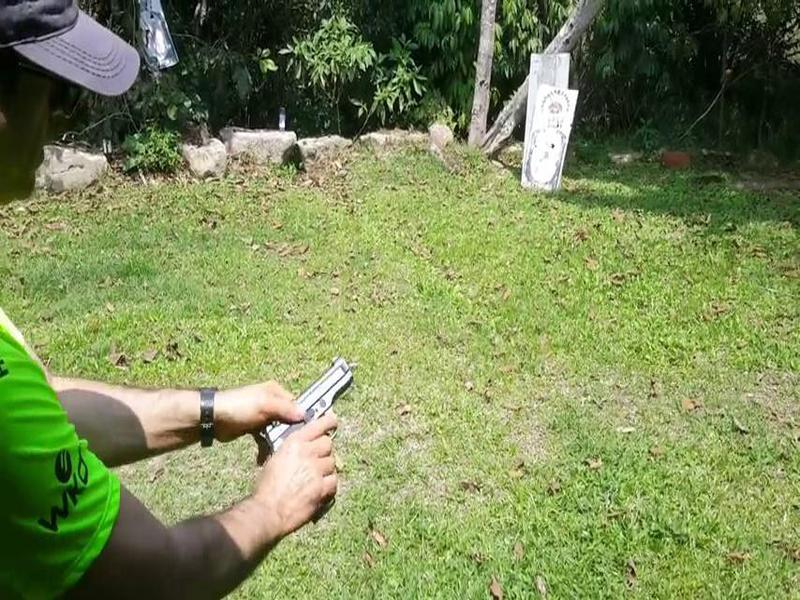Pistola: (253, 352, 363, 523)
